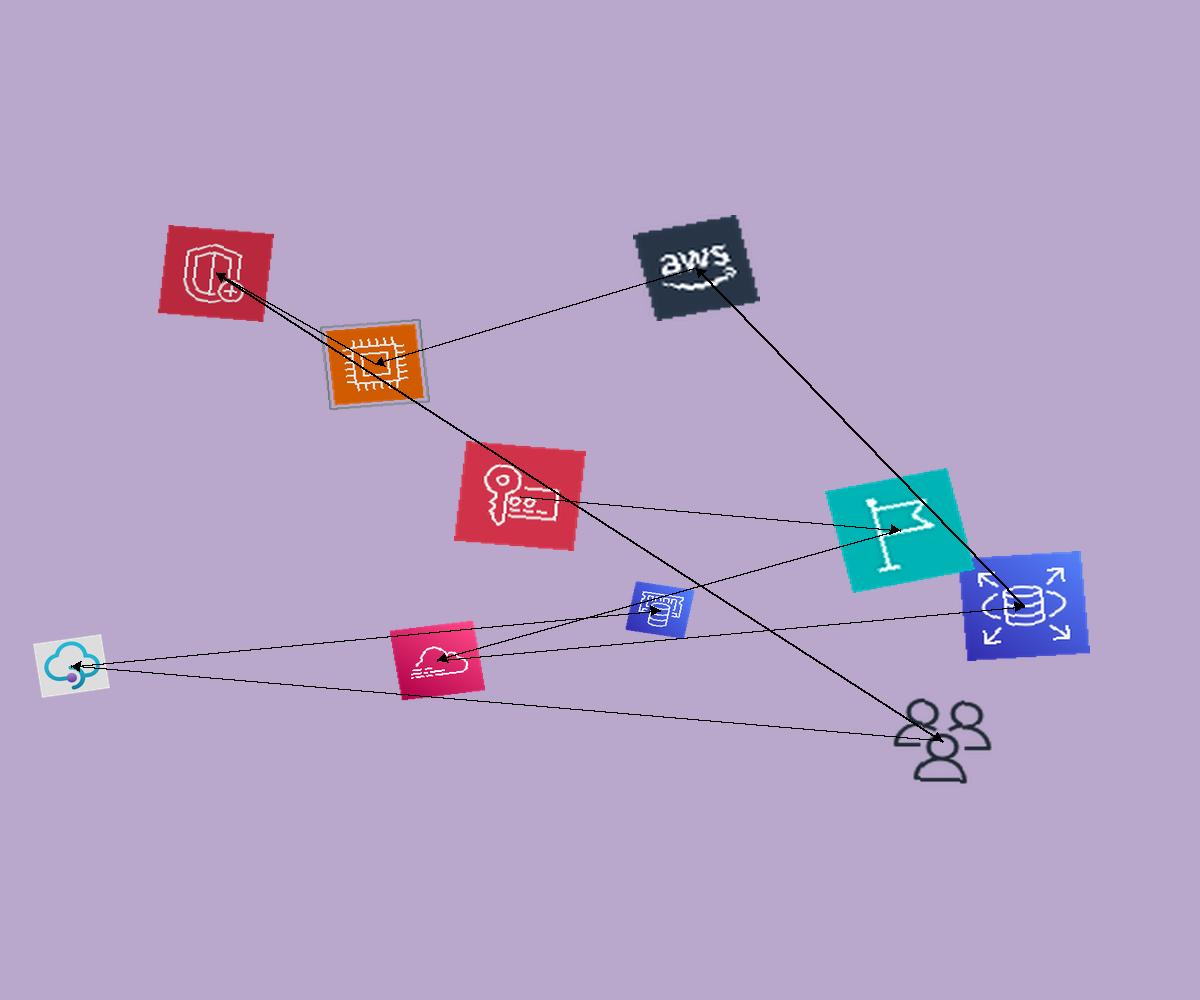AWS-Category_Compute: (319, 318, 431, 411)
AWS-Cloud-logo: (633, 215, 760, 321)
AWS-CloudTrail: (389, 620, 486, 701)
AWS-ElastiCache: (625, 581, 695, 639)
AWS-Key-Management-Service: (454, 441, 586, 551)
AWS-RDS: (958, 551, 1090, 661)
AWS-Region: (825, 468, 975, 593)
AWS-Res_Users: (885, 693, 1000, 789)
AWS-Shield: (158, 225, 274, 322)
Azure_api_gateway: (33, 634, 110, 698)
